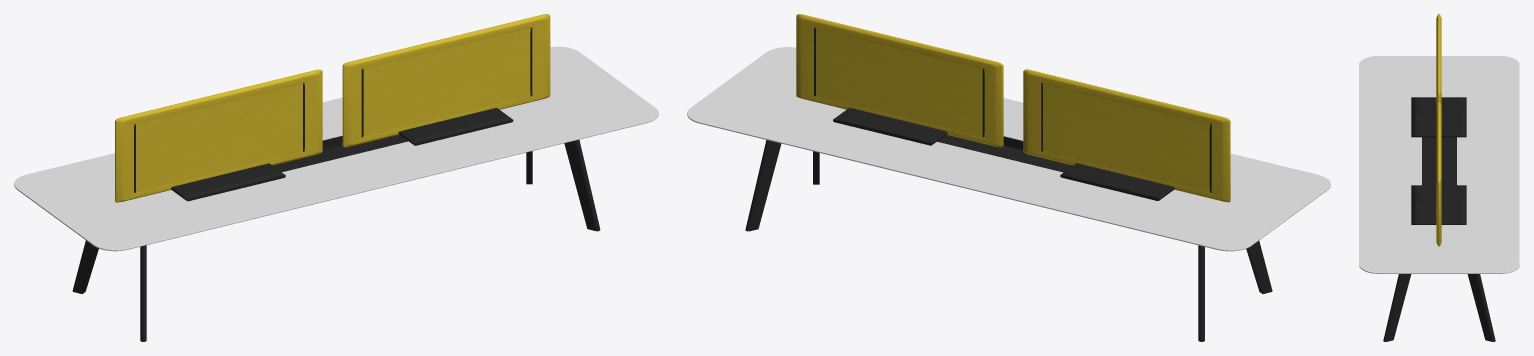
The model's file is table.glb.
The picture shows the model from 3 angles, left to right: view 1: azimuth 30°, elevation 25°; view 2: azimuth 150°, elevation 25°; view 3: azimuth 270°, elevation 25°; orthographic projection. The views are drawn at different scales.
Visible parts, largest first — view 1: Cube, Upper, Legs, Inner; view 2: Cube, Upper, Legs, Inner; view 3: Upper, Cube, Legs, Inner.
Part boxes in pixels (bbox=[...]): Cube: bbox=[115, 14, 550, 202]; Upper: bbox=[14, 46, 658, 251]; Legs: bbox=[72, 140, 600, 341]; Inner: bbox=[273, 135, 407, 172]; Cube: bbox=[796, 14, 1230, 202]; Upper: bbox=[687, 47, 1330, 251]; Legs: bbox=[745, 140, 1272, 341]; Inner: bbox=[937, 134, 1072, 172]; Upper: bbox=[1359, 56, 1519, 273]; Cube: bbox=[1411, 14, 1466, 246]; Legs: bbox=[1383, 274, 1495, 341]; Inner: bbox=[1422, 137, 1456, 185].
Size of the model in its own units: 5.74 by 1.91 by 1.79.
3 materials, 1 textured.
